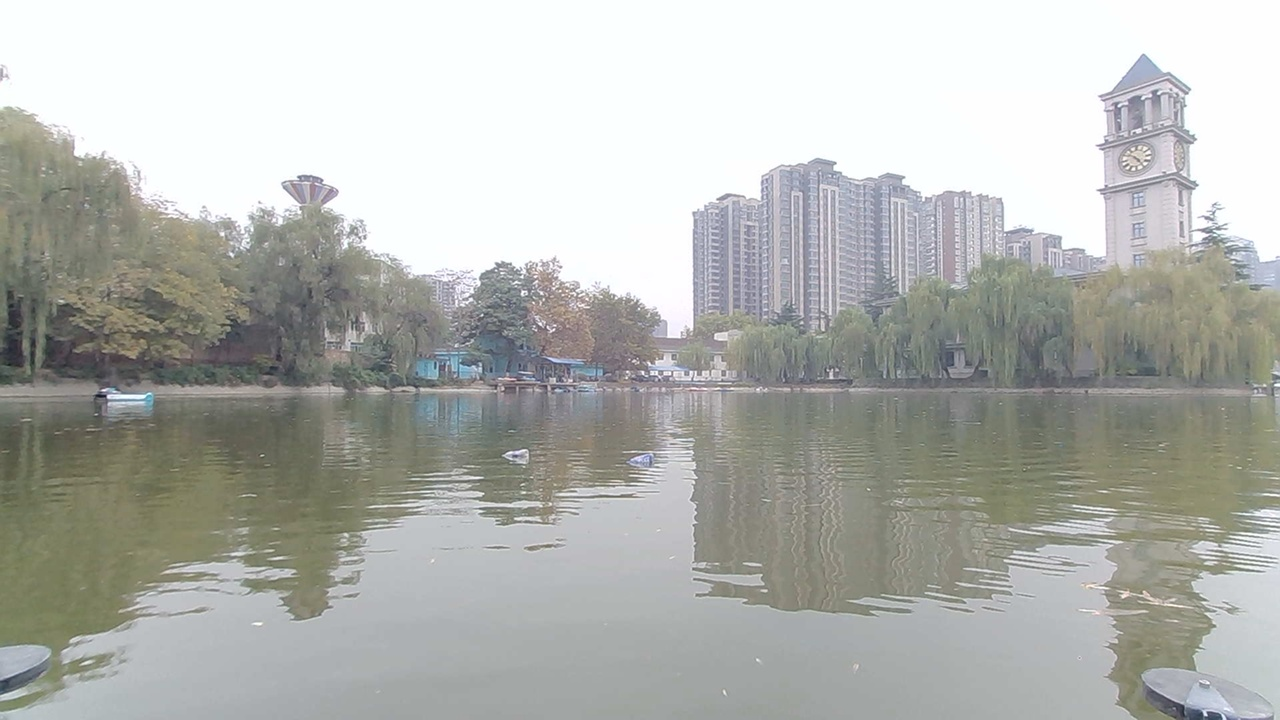bottle: (502, 439, 541, 465), (628, 452, 661, 469)
